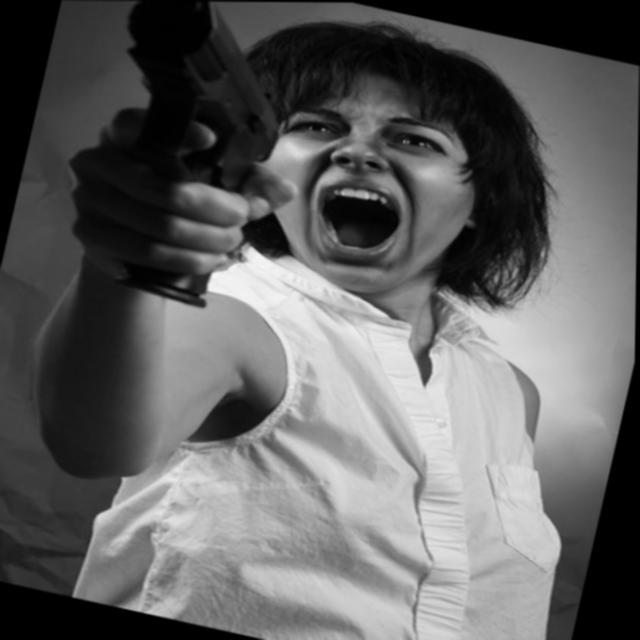weapon: (64, 1, 308, 314)
